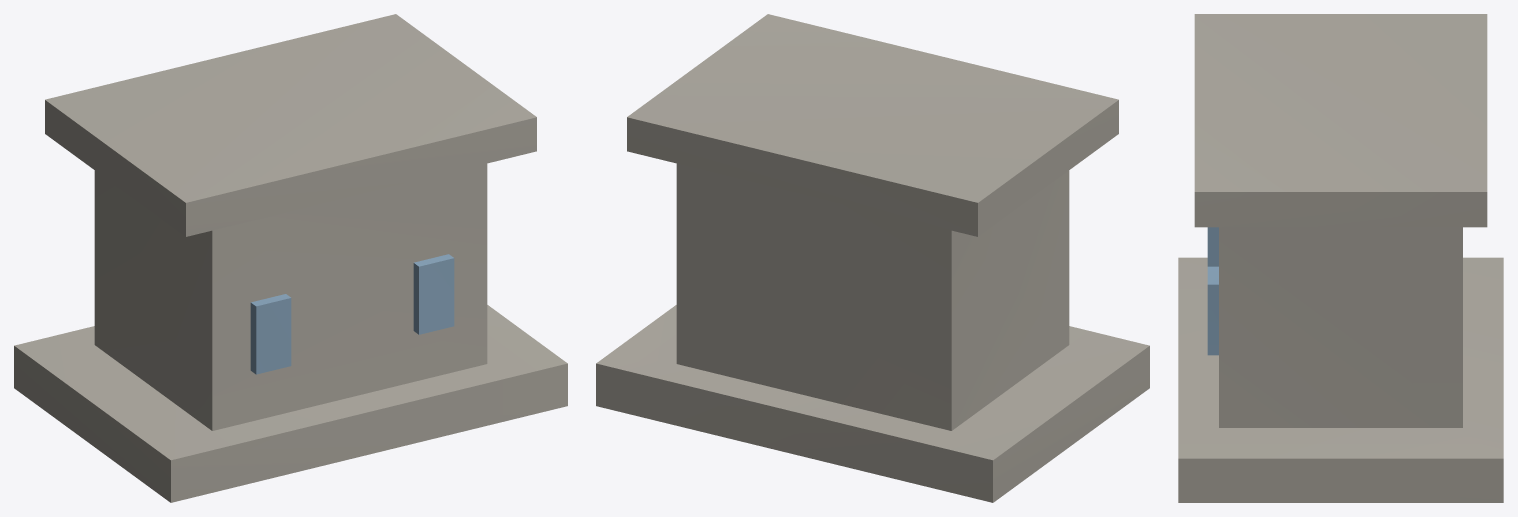
File: market-06.glb
3 views of the same model, side by side, from view 1: azimuth 30°, elevation 25°; view 2: azimuth 150°, elevation 25°; view 3: azimuth 270°, elevation 25° (orthographic). The views are drawn at different scales.
Parts seen in each view (by area): view 1: world; view 2: world; view 3: world.
Boxes of the visible parts, x1,y1,x2,y2 form: world: (14, 14, 567, 502); world: (596, 14, 1149, 502); world: (1178, 14, 1503, 502).
Size of the model in its own units: 1.46 by 1.02 by 1.
